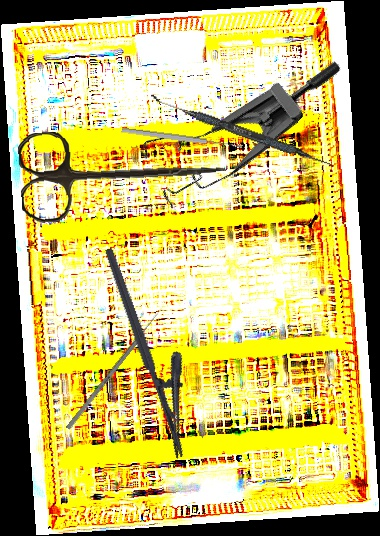Iris Scissors: (17, 119, 228, 225)
Needle Holder: (103, 237, 214, 460)
Pusher: (65, 304, 166, 431)
Spatula Surgical: (147, 94, 336, 169)
Speculum: (123, 1, 344, 235)
Surgical Spoon: (121, 126, 243, 151)
